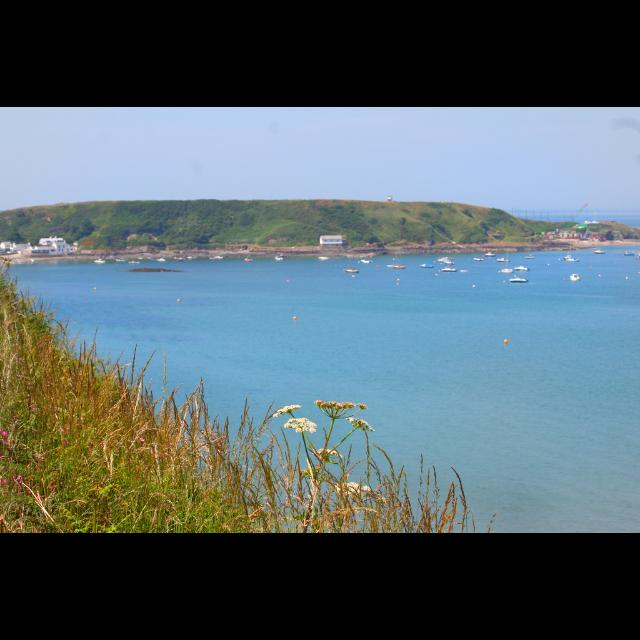Flower: (271, 396, 377, 498), (286, 414, 322, 438)
